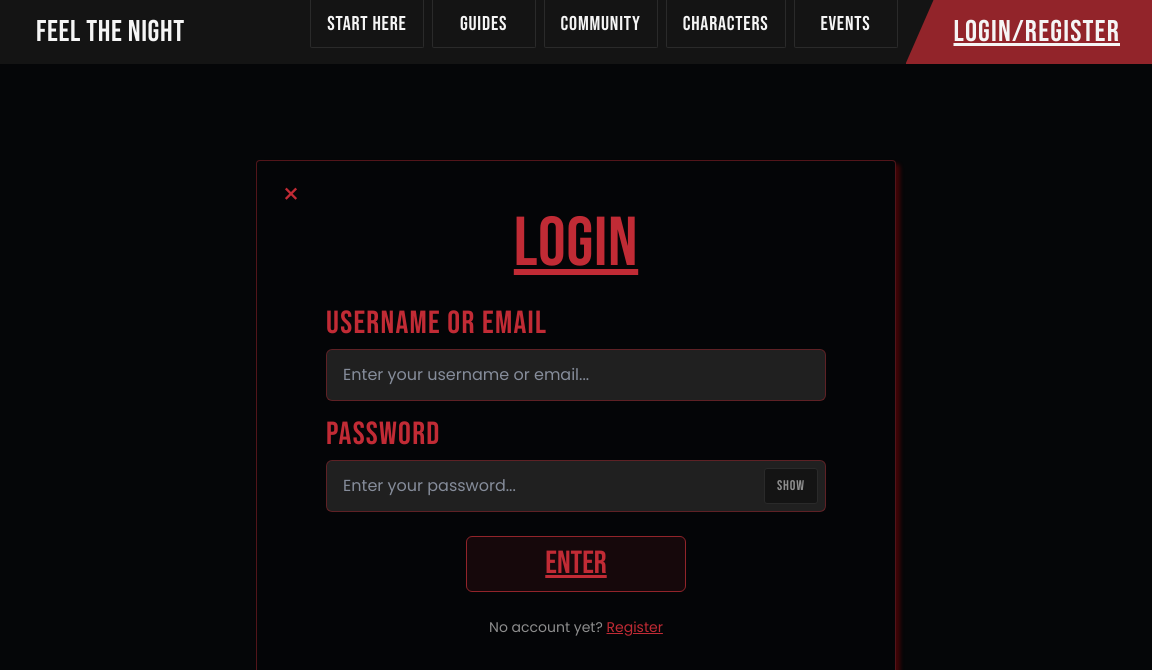
Login › reports empty fields
Click the button "enter": (576, 564) top-left (466, 536), bottom-right (686, 592)
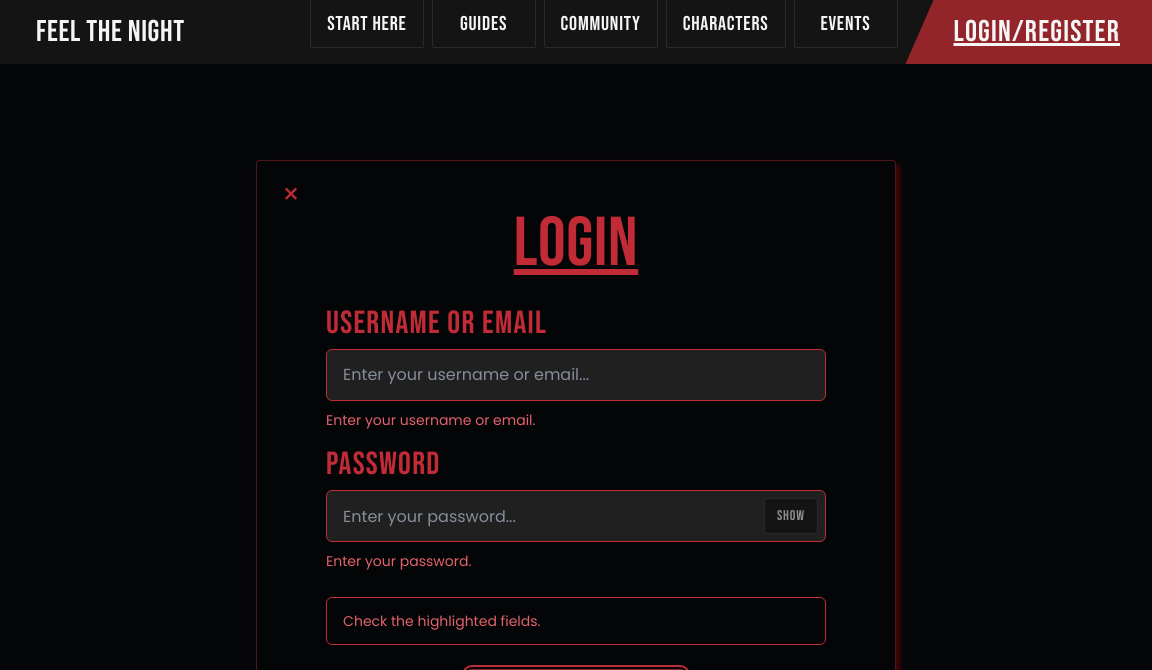
Expected: the text "Enter your username or email." is shown, top-left (326, 410), bottom-right (536, 430)
Expected: the text "Enter your password." is shown, top-left (326, 551), bottom-right (471, 571)
